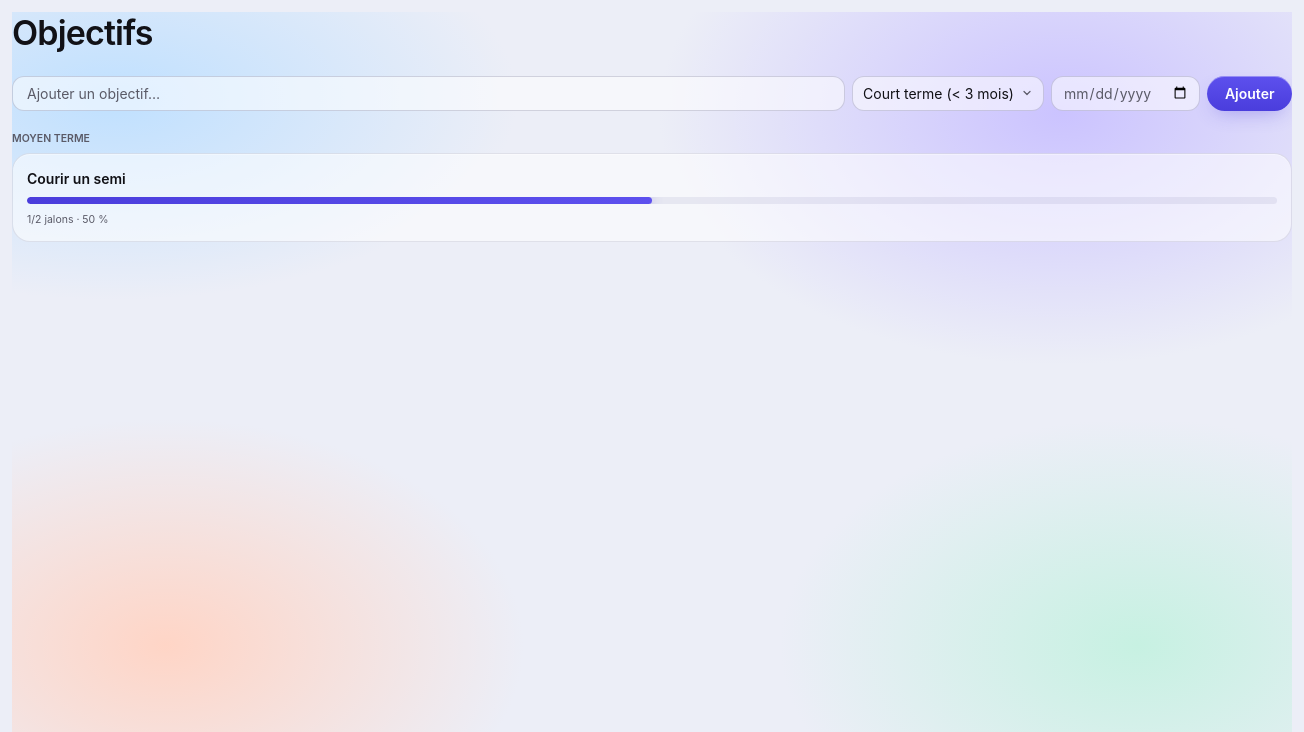
Test: GoalsPage › affiche la progression calculée et la met à jour en cochant un jalon
Expected: the text "1/2 jalons · 50 %" is shown, x1=27 y1=213 x2=108 y2=227
Expected: the heading "Moyen terme" is shown, x1=12 y1=132 x2=90 y2=144
Click the button "Courir un semi 1/2 jalons · 50 %": (652, 197) x1=27 y1=168 x2=1277 y2=227
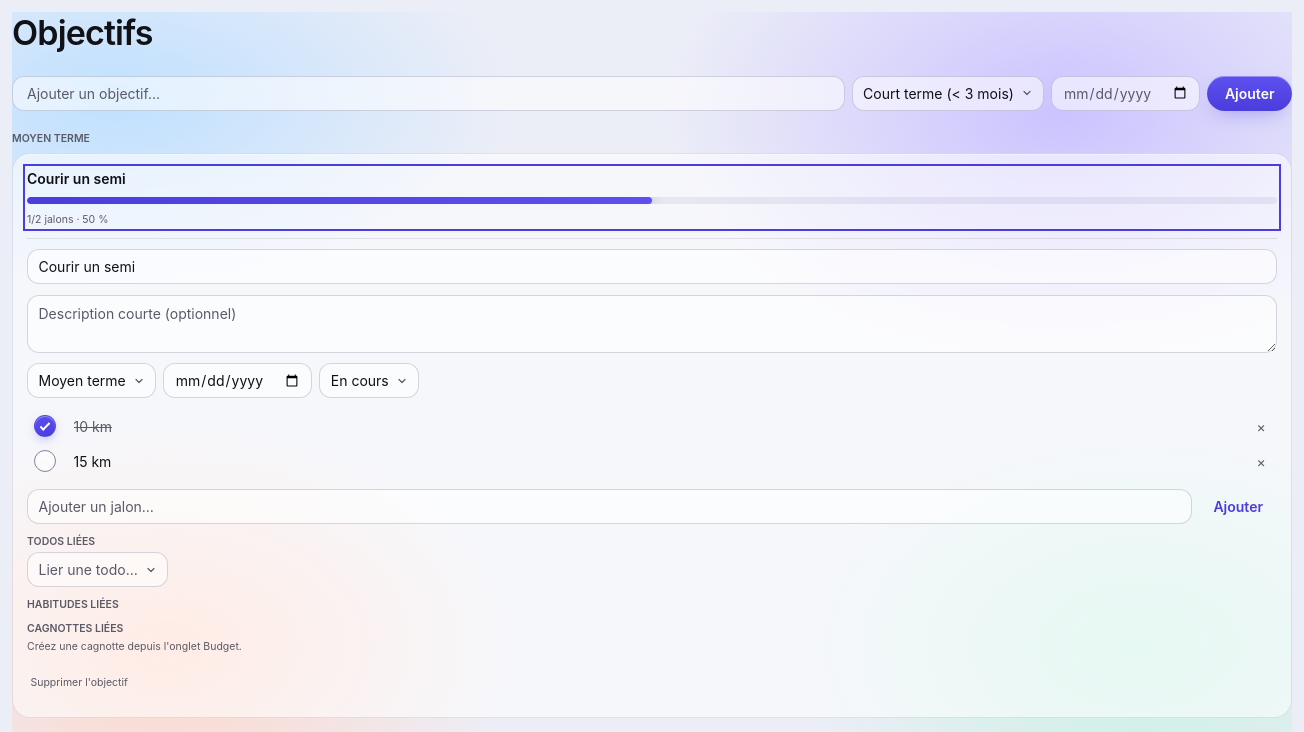
Click the 2nd checkbox named "15 km": (44, 461) x1=34 y1=450 x2=56 y2=472
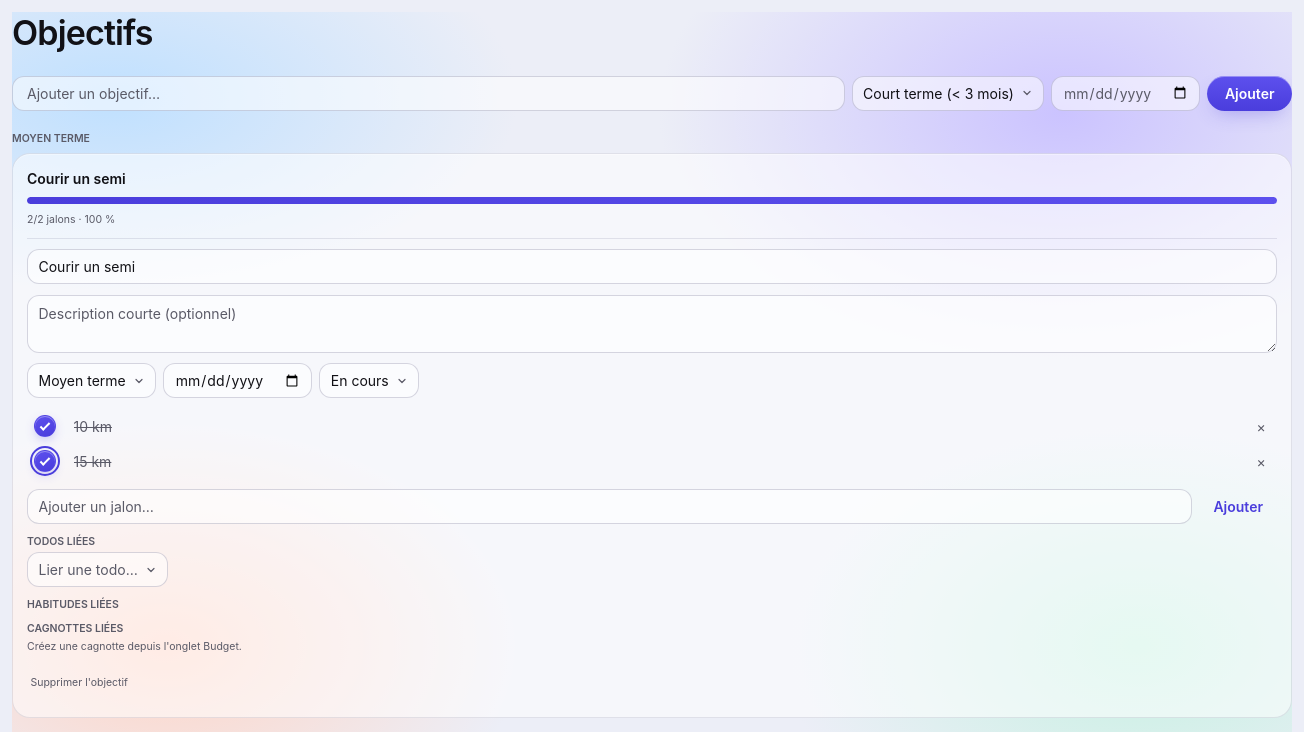
Now the text "2/2 jalons · 100 %" is shown, box x1=27 y1=213 x2=115 y2=227
